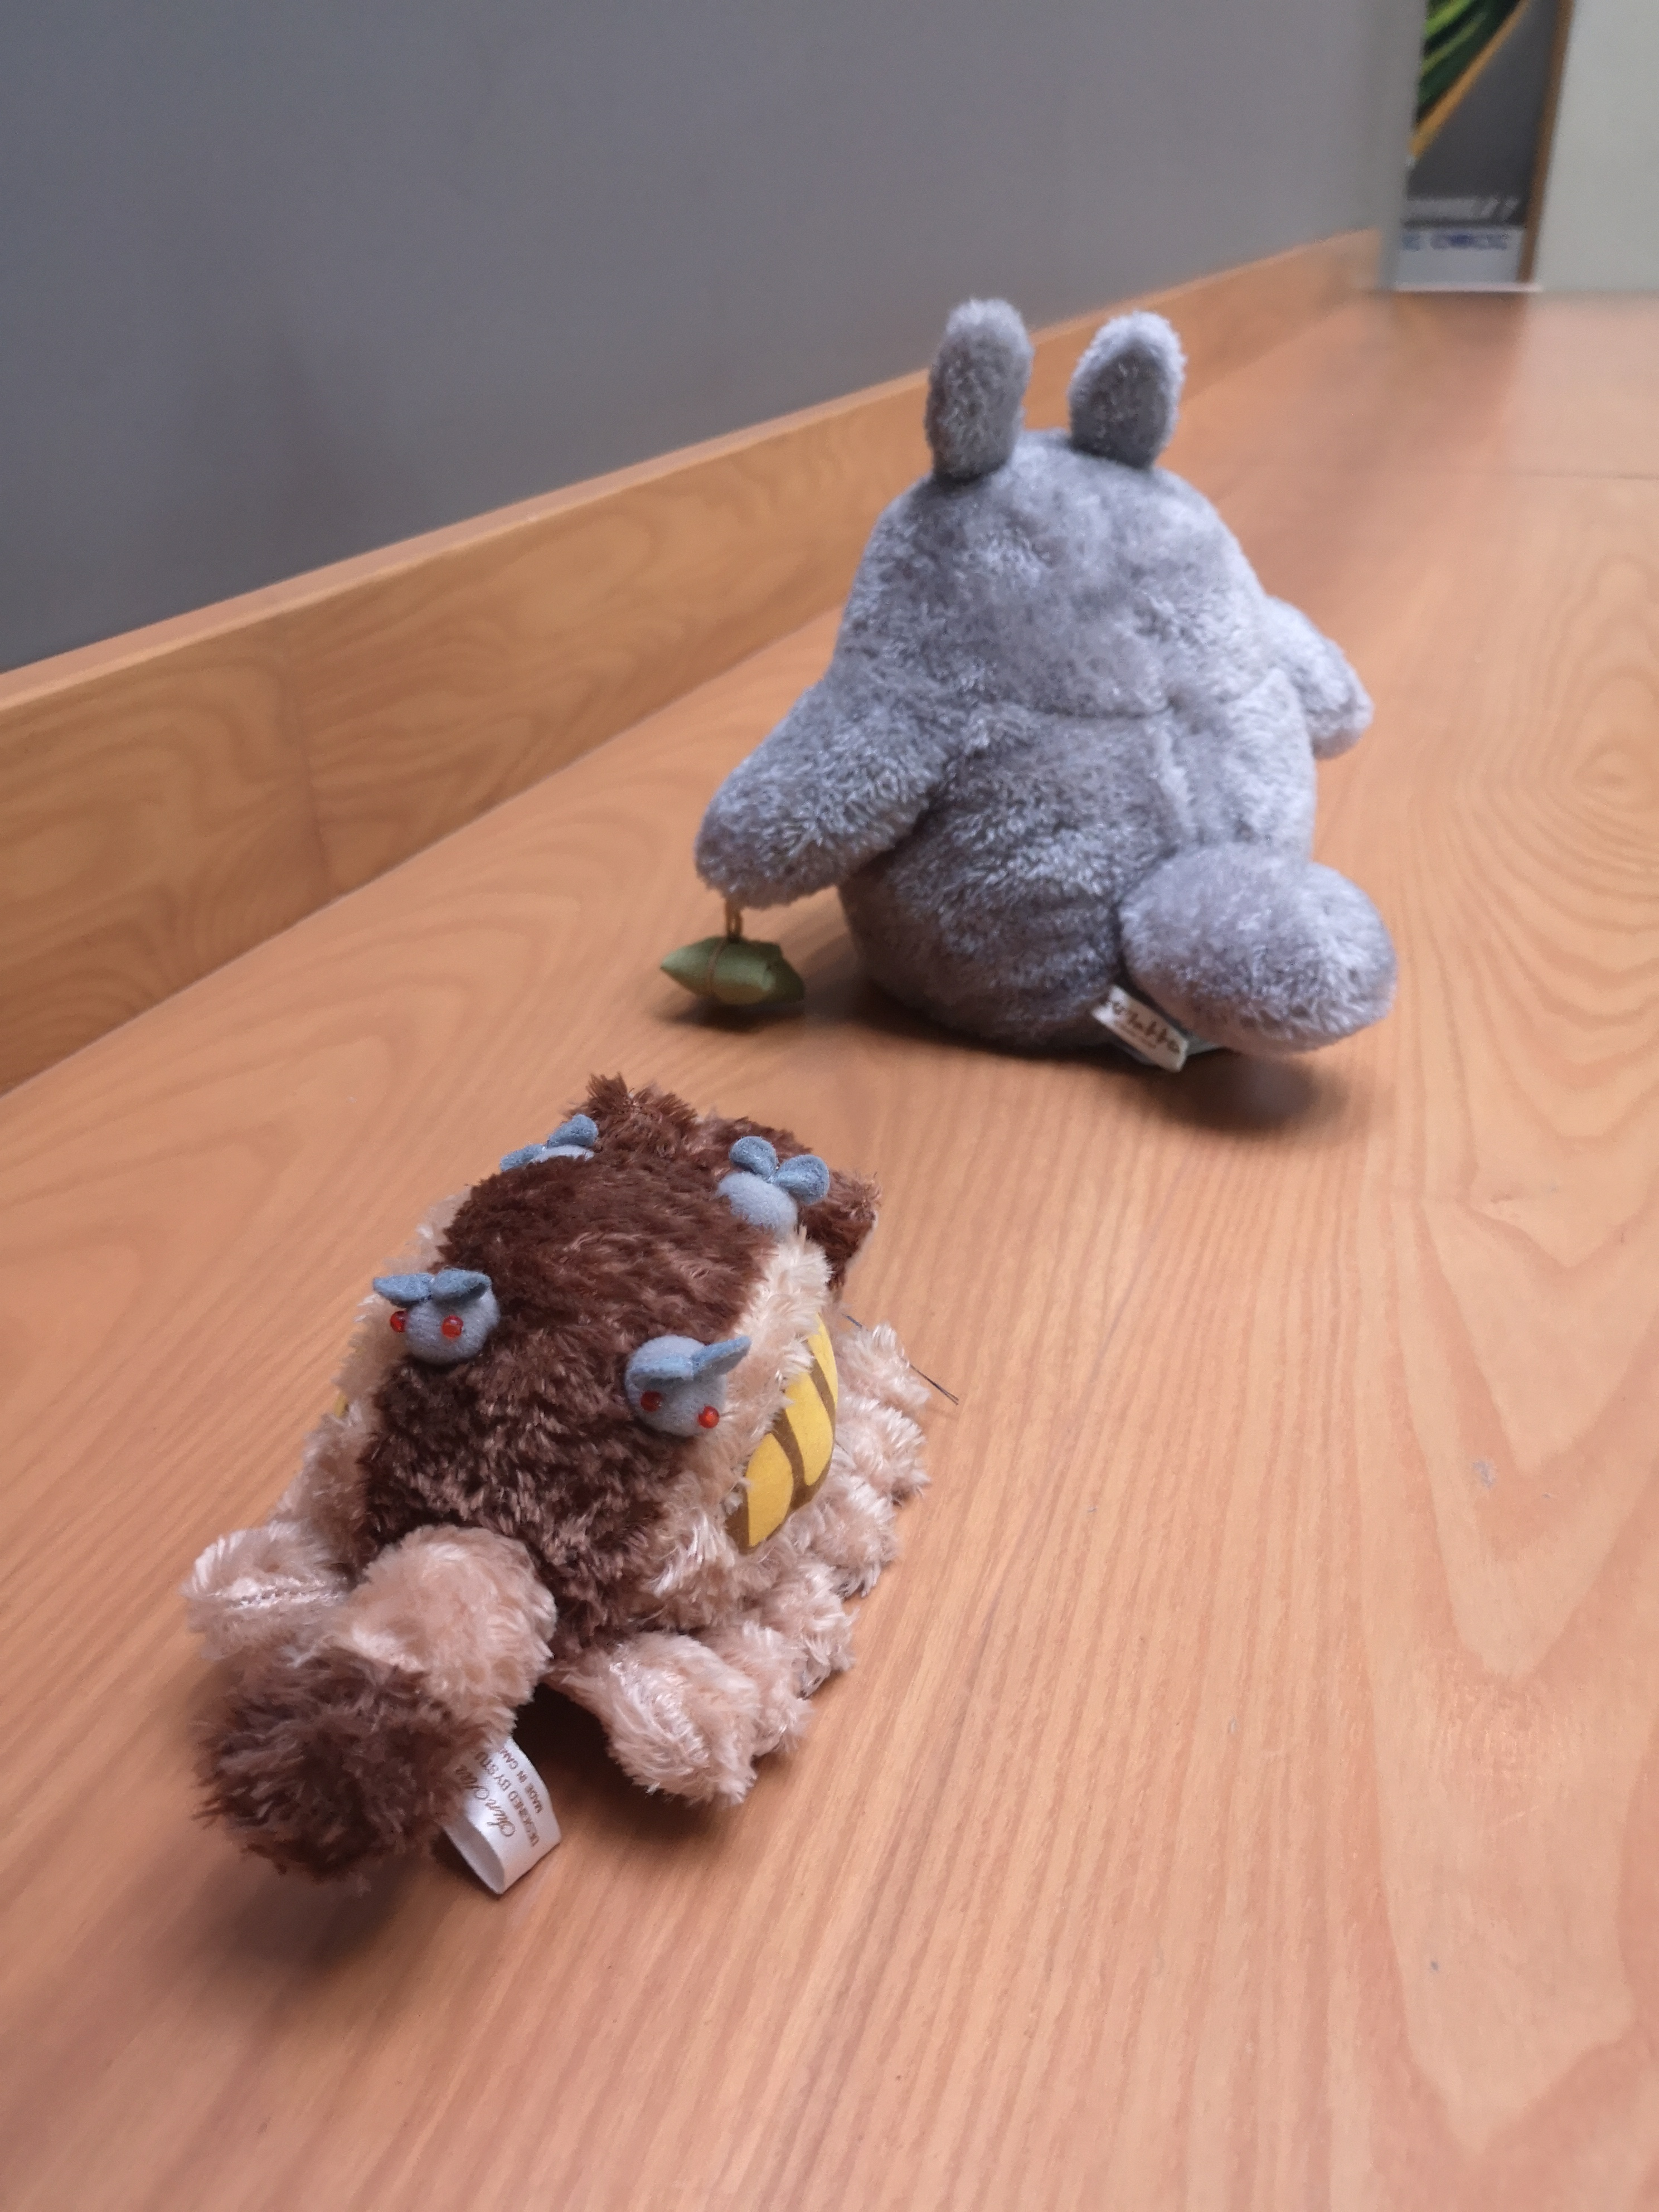nekobus: (159, 1064, 969, 1933)
totoro: (657, 293, 1412, 1101)
